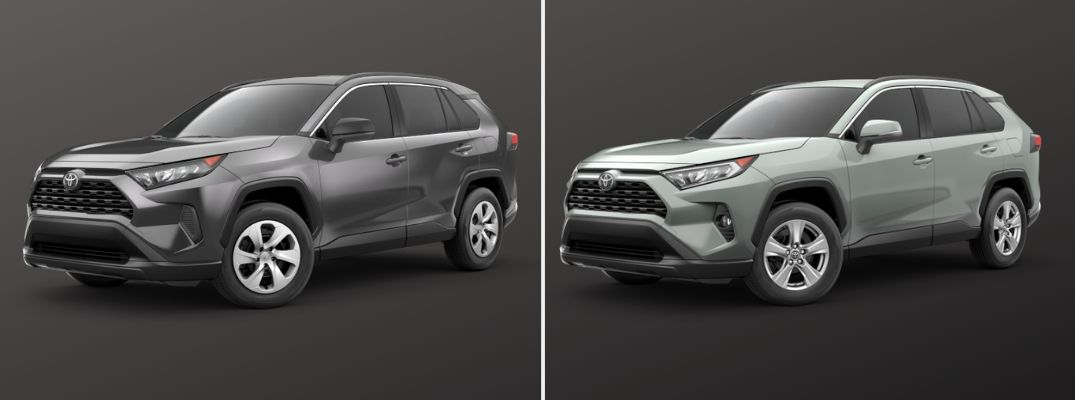Toyota RAV-4: (21, 72, 520, 305)
